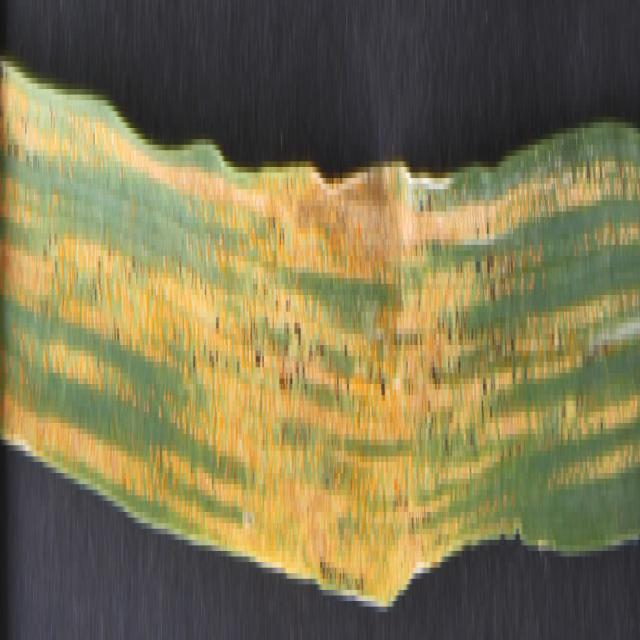leaf rust: (1, 67, 639, 590)
